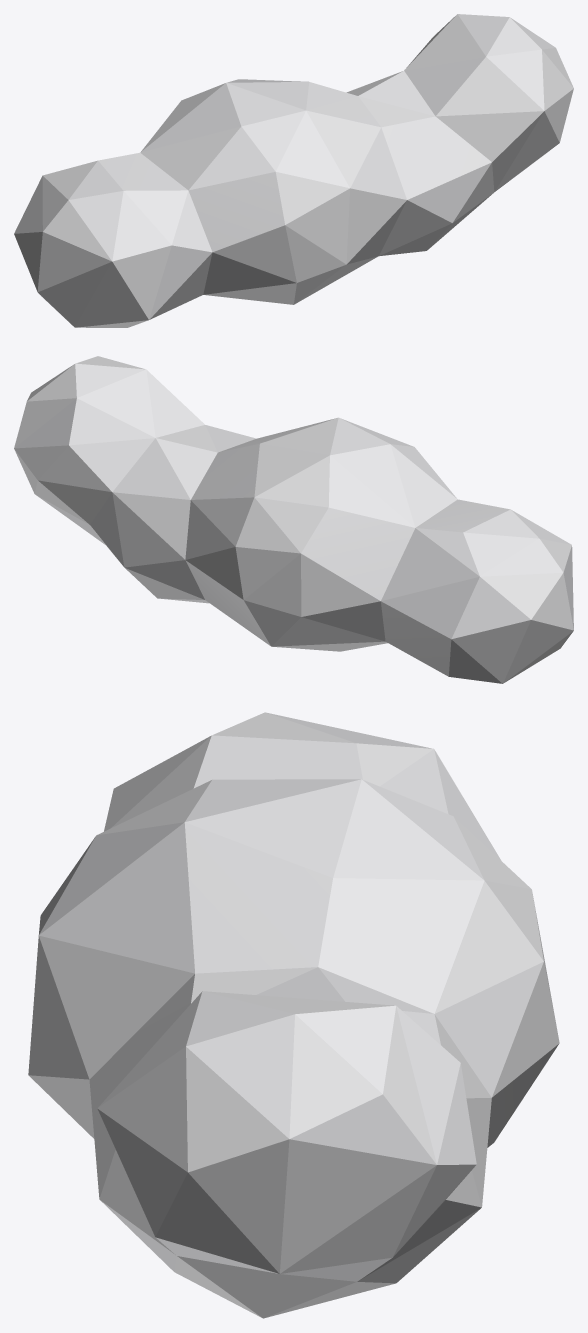
File: small_cloud_13.fbx
3 views of the same model, one above another, from view 1: azimuth 30°, elevation 25°; view 2: azimuth 150°, elevation 25°; view 3: azimuth 270°, elevation 25° (orthographic). The views are drawn at different scales.
Parts seen in each view (by area): view 1: cloud_13; view 2: cloud_13; view 3: cloud_13.
Boxes of the visible parts, box(x1,y1,x2,y2) form: cloud_13: box(14, 14, 573, 327); cloud_13: box(14, 356, 573, 683); cloud_13: box(28, 712, 559, 1318).
Size of the model in its own units: 461 by 177 by 202.
